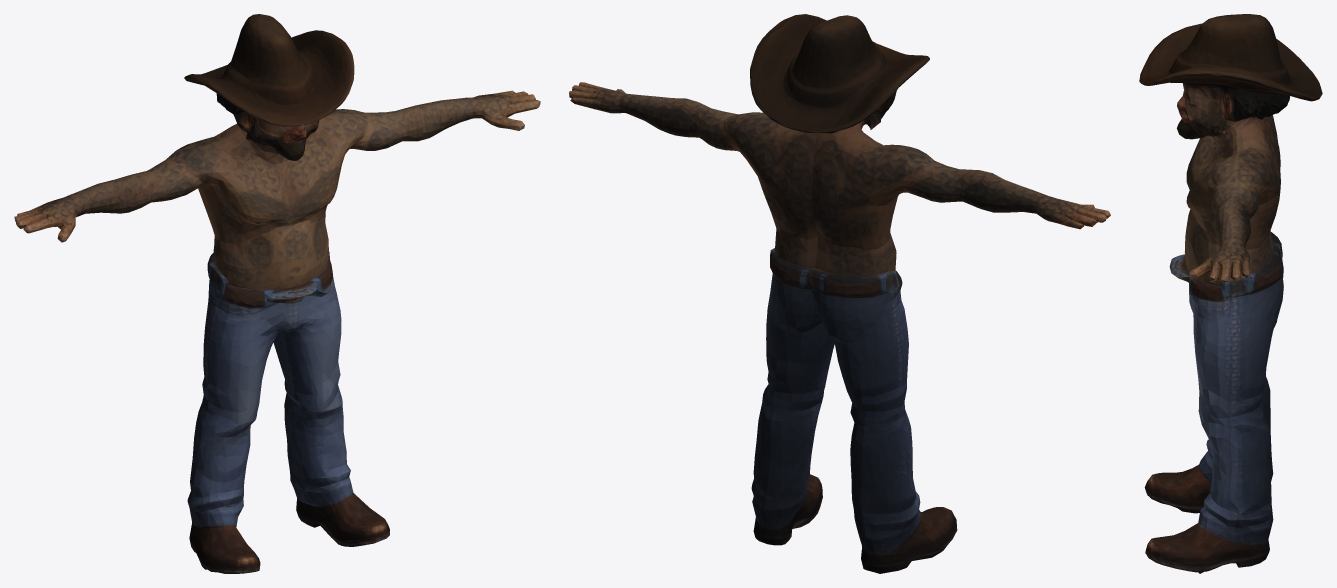
File: performer-body.glb
3 renders of one model, left to right at view 1: azimuth 30°, elevation 25°; view 2: azimuth 150°, elevation 25°; view 3: azimuth 270°, elevation 25°, orthographic. The views are drawn at different scales.
Parts seen in each view (by area): view 1: world; view 2: world; view 3: world.
Part boxes in pixels (x1,y1,x2,y2): world: [14, 14, 540, 573]; world: [569, 14, 1110, 573]; world: [1139, 14, 1322, 573].
Size of the model in its own units: 1 by 0.9588 by 0.3051.
1 material, 1 textured.
